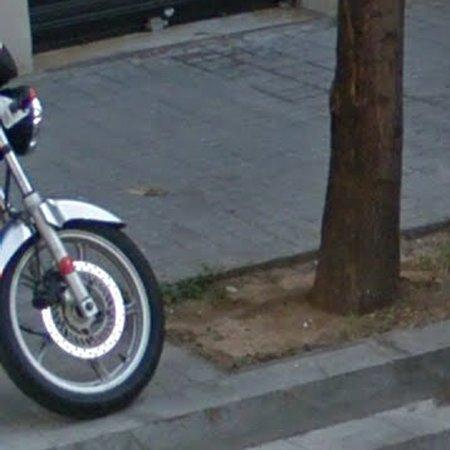motorcycles: (0, 124, 164, 418)
